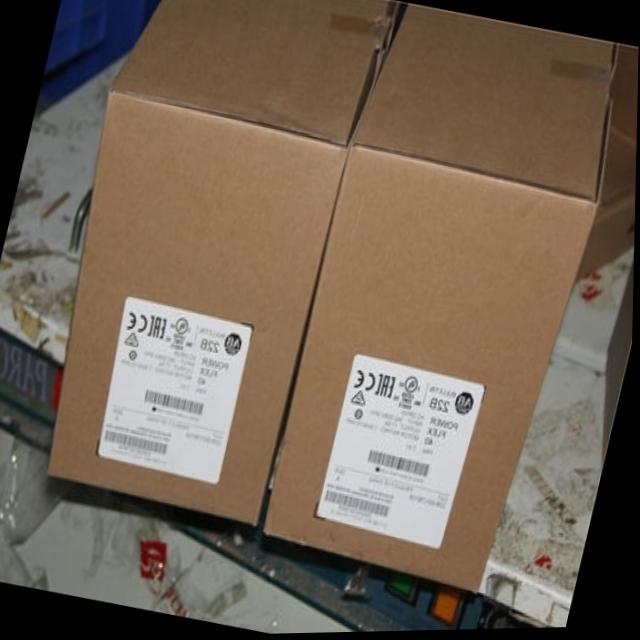box: (262, 4, 618, 600), (48, 0, 398, 529)
